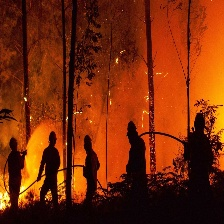fire: (1, 183, 23, 213)
smoke: (32, 1, 222, 139)
